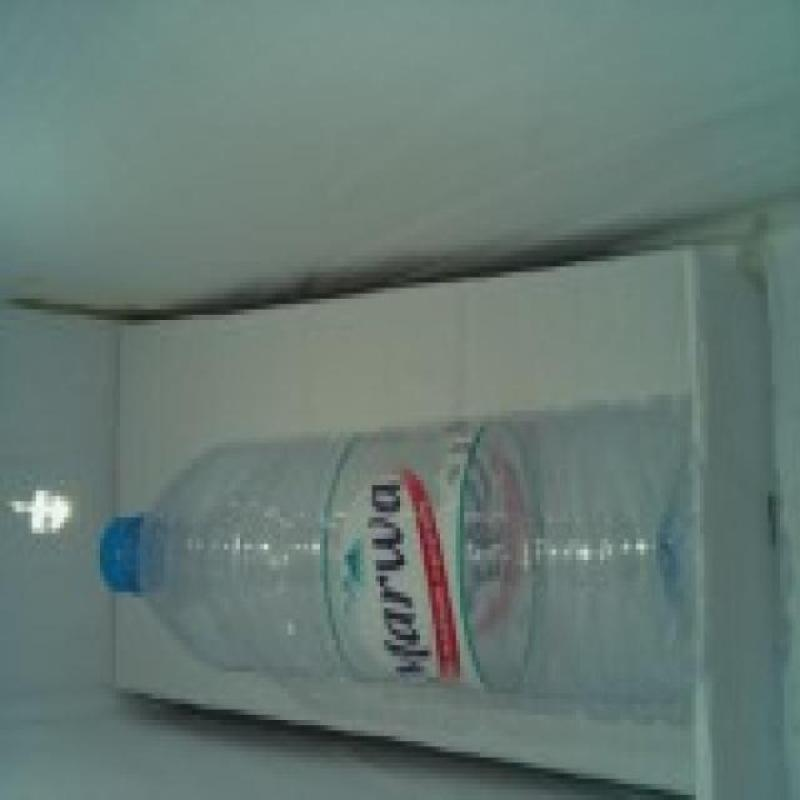botella: (98, 419, 696, 729)
